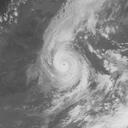cyclone: (39, 0, 126, 127)
